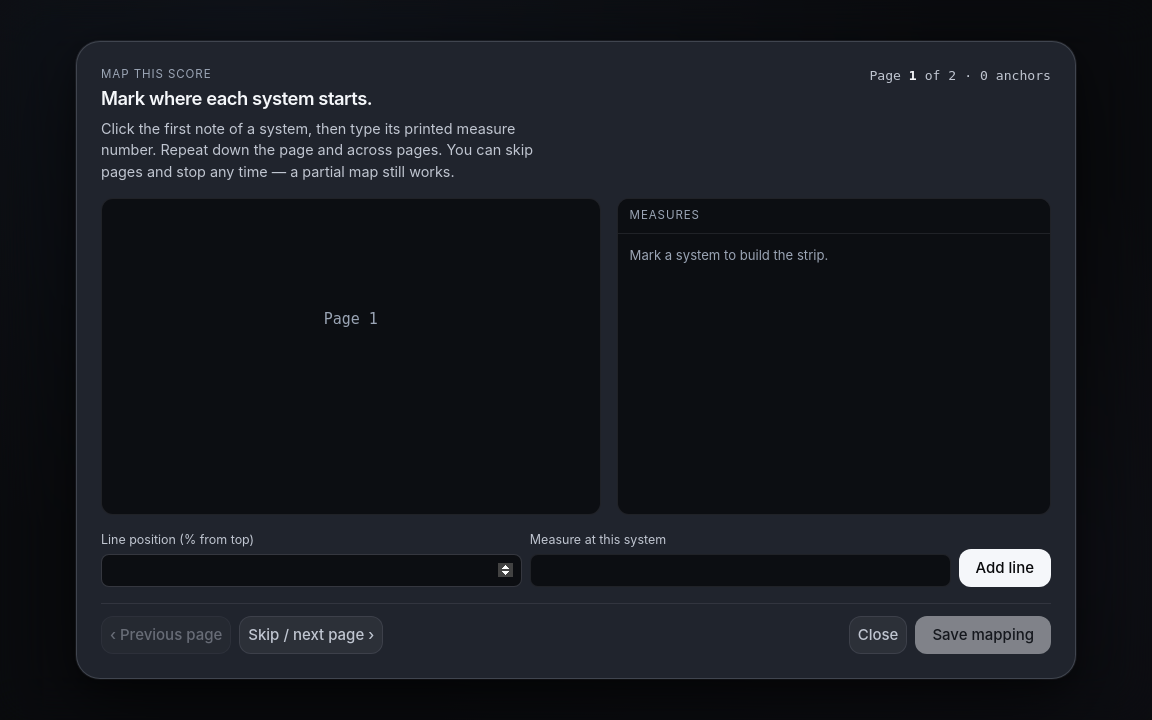
MapScoreWizard › pre-fills from the PDF text layer when no anchor matches, tagged 'from score'
Type "60" into the number field named "Line position percent from top" at (311, 570), box x1=101 y1=554 x2=522 y2=587
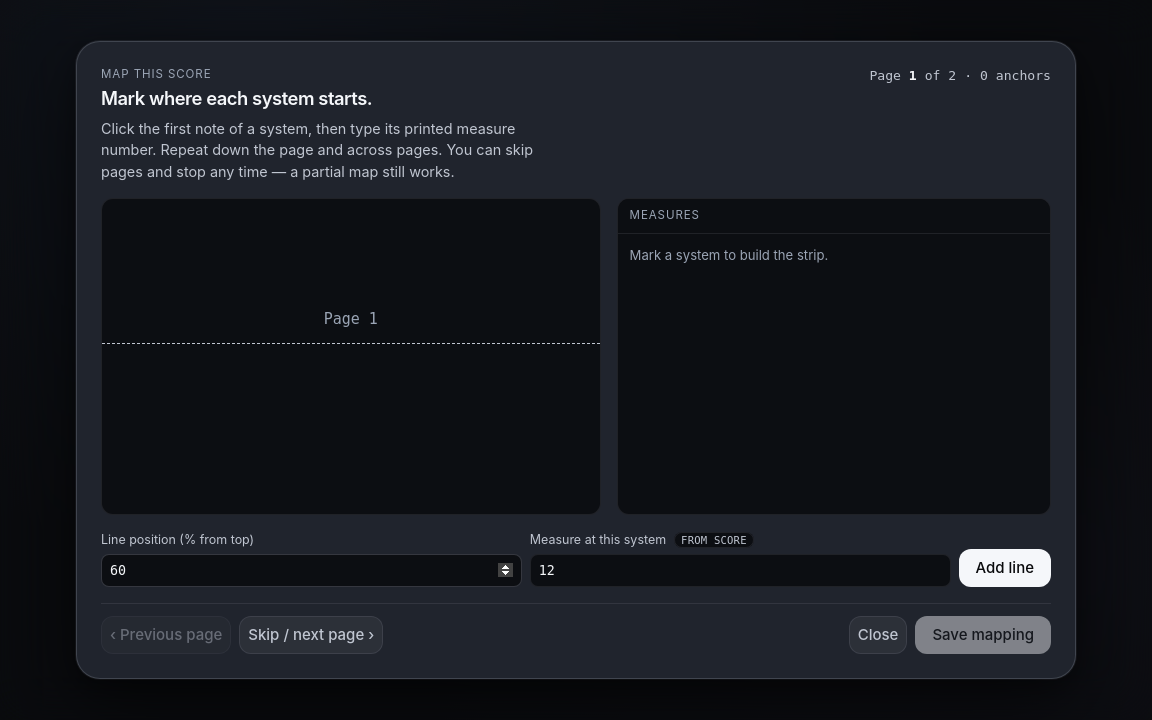
Expected: the number field named "Measure number at this system start" holds "12", x1=530 y1=554 x2=951 y2=587
Expected: the text "from score" is shown, x1=674 y1=532 x2=754 y2=548
